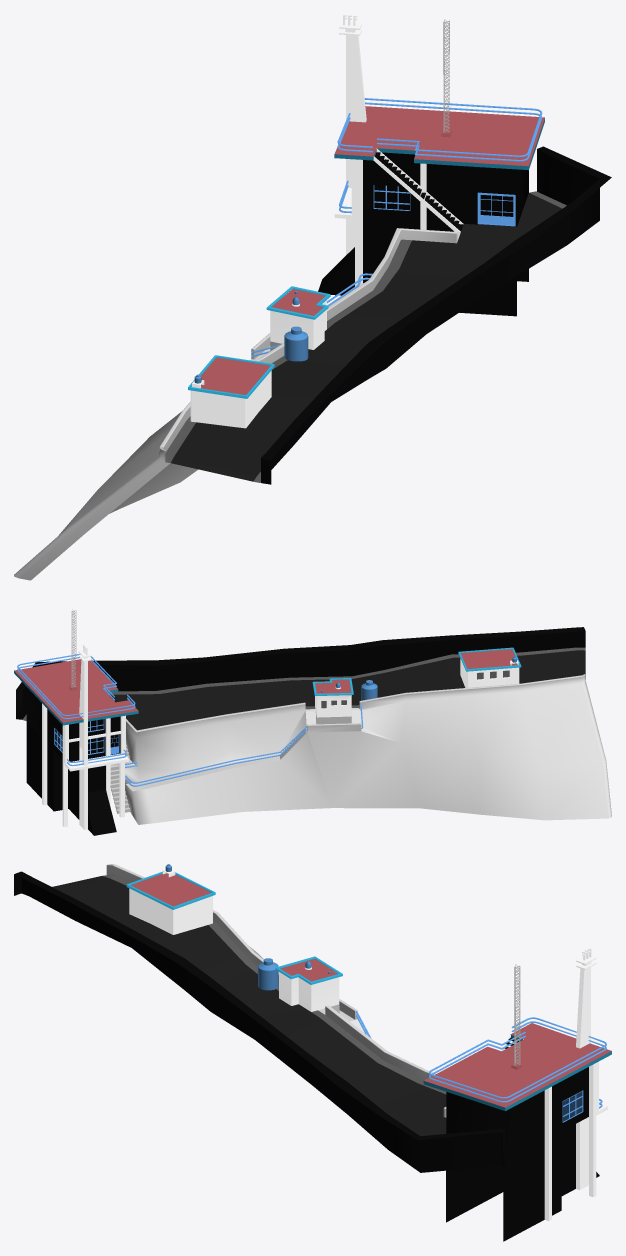
The model's file is Msh_Sect06_Sitio.glb.
3 renders of one model, top to bottom at view 1: azimuth 30°, elevation 25°; view 2: azimuth 150°, elevation 25°; view 3: azimuth 270°, elevation 25°, orthographic. The views are drawn at different scales.
Visible parts, largest first — view 1: Msh_Sitio; view 2: Msh_Sitio; view 3: Msh_Sitio.
Boxes of the visible parts, <box> form: Msh_Sitio: <box>14,14,611,580</box>; Msh_Sitio: <box>14,609,611,835</box>; Msh_Sitio: <box>14,864,611,1241</box>.
Bounding box in the file's own units: 85.34 × 32.01 × 69.5.
